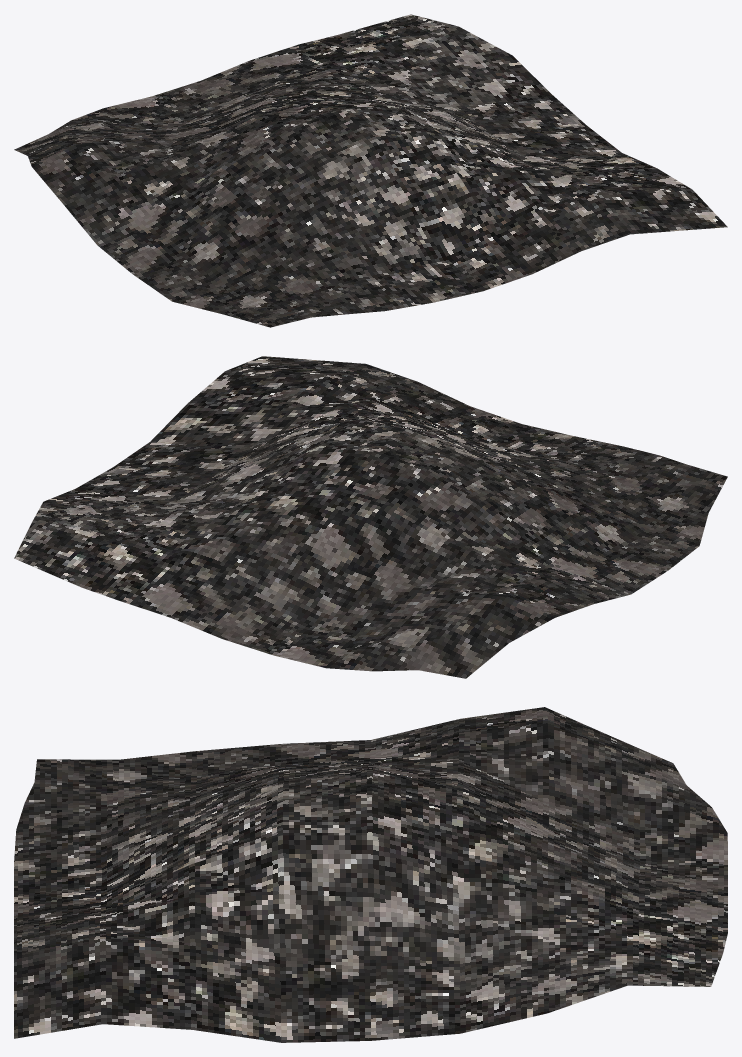
The model's file is Coal_Pile_Variant_1.gltf.
The picture shows the model from 3 angles, top to bottom: view 1: azimuth 30°, elevation 25°; view 2: azimuth 150°, elevation 25°; view 3: azimuth 270°, elevation 25°; orthographic projection. The views are drawn at different scales.
Parts seen in each view (by area): view 1: Coal_Pile_Variant_1; view 2: Coal_Pile_Variant_1; view 3: Coal_Pile_Variant_1.
Boxes of the visible parts, bbox=[...] form: Coal_Pile_Variant_1: bbox=[14, 14, 727, 327]; Coal_Pile_Variant_1: bbox=[14, 356, 727, 678]; Coal_Pile_Variant_1: bbox=[14, 707, 727, 1042].
Bounding box in the file's own units: 3.6 × 0.5783 × 3.6.
Materials: 1 (1 with a texture image).
